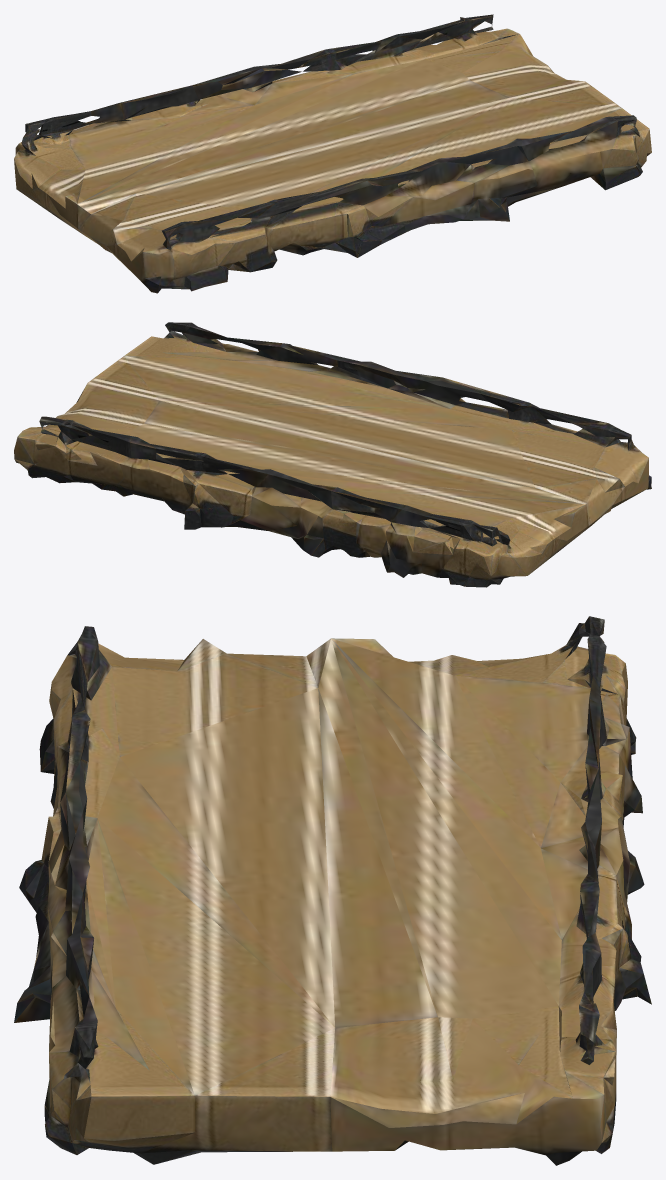
File: road-straight.lod.glb
3 renders of one model, top to bottom at view 1: azimuth 30°, elevation 25°; view 2: azimuth 150°, elevation 25°; view 3: azimuth 270°, elevation 25°, orthographic. The views are drawn at different scales.
Parts seen in each view (by area): view 1: output_unwrapped; view 2: output_unwrapped; view 3: output_unwrapped.
Boxes of the visible parts, x1,y1,x2,y2 form: output_unwrapped: [14, 14, 651, 293]; output_unwrapped: [14, 322, 651, 587]; output_unwrapped: [14, 616, 651, 1165].
Size of the model in its own units: 1.9 by 0.2314 by 1.11.
1 material, 1 textured.
